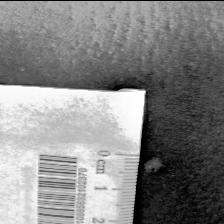Toxin: (139, 151, 169, 173)
